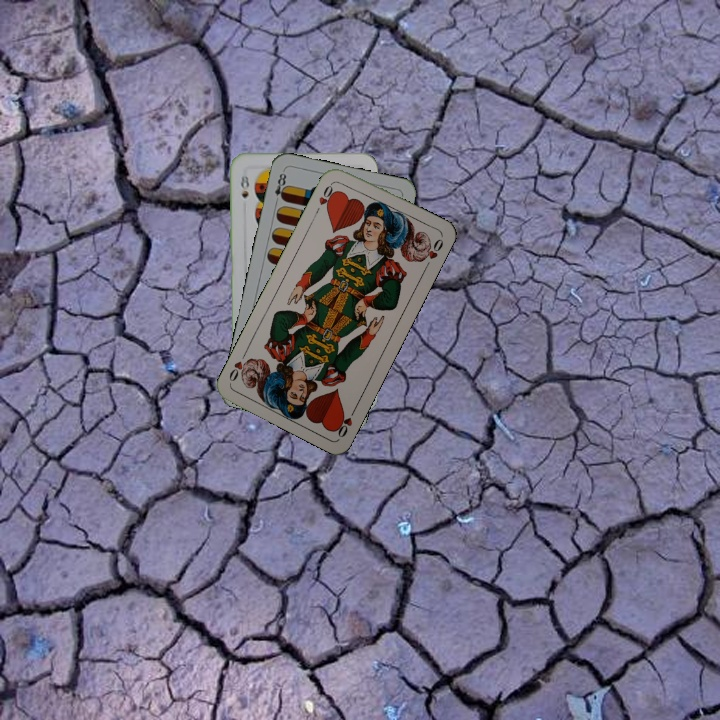E8: (270, 169, 290, 207)
HO: (331, 402, 359, 440), (311, 179, 339, 216)
S8: (235, 168, 252, 200)
